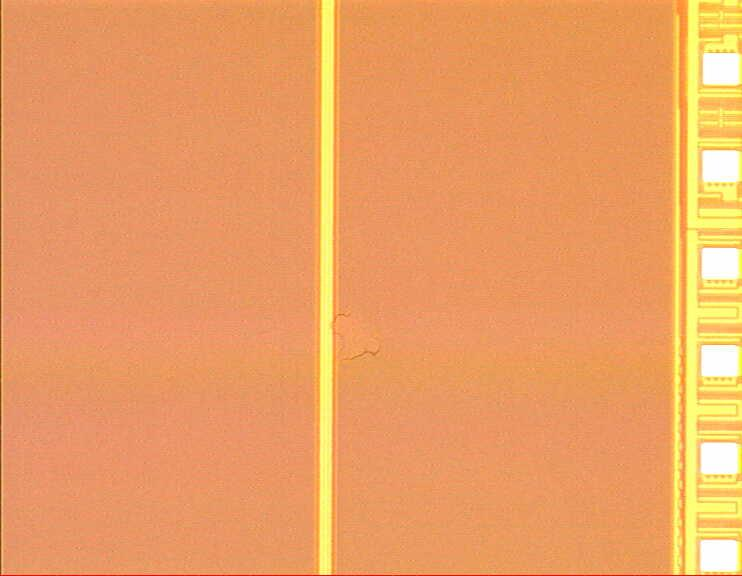PIQ PARTICLE: (331, 306, 383, 364)
